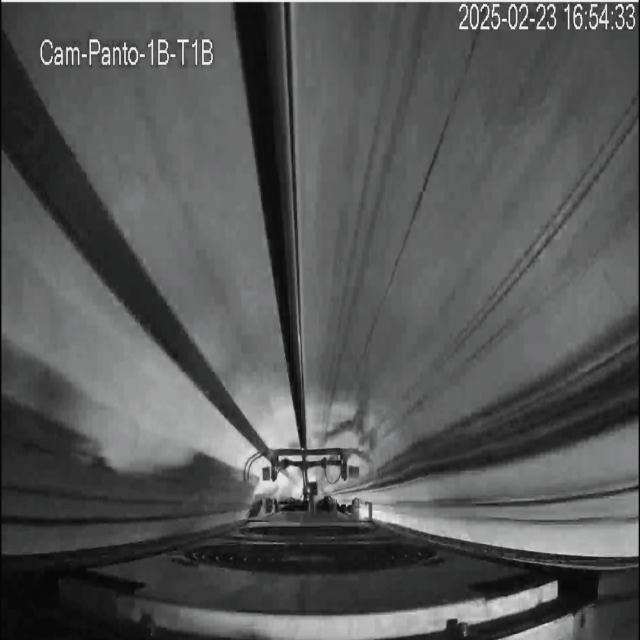Camera Stamp: (35, 28, 219, 69)
Date Stamp: (459, 3, 637, 33)
No - Spark: (241, 441, 364, 507)
